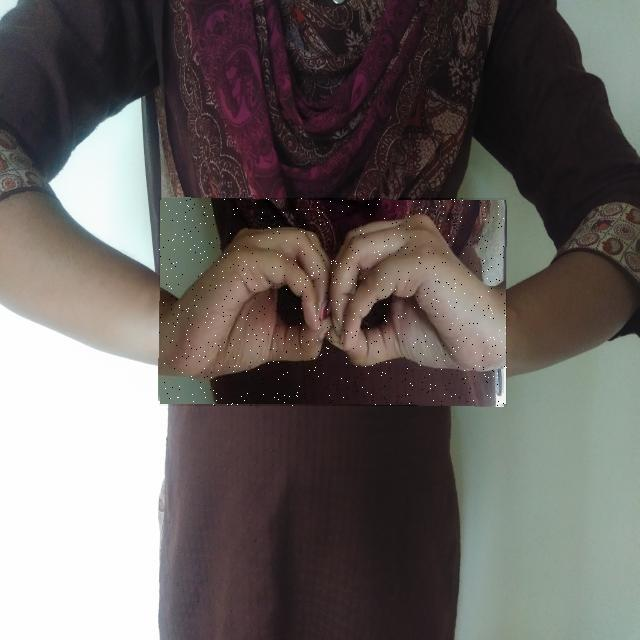B: (159, 198, 507, 406)
